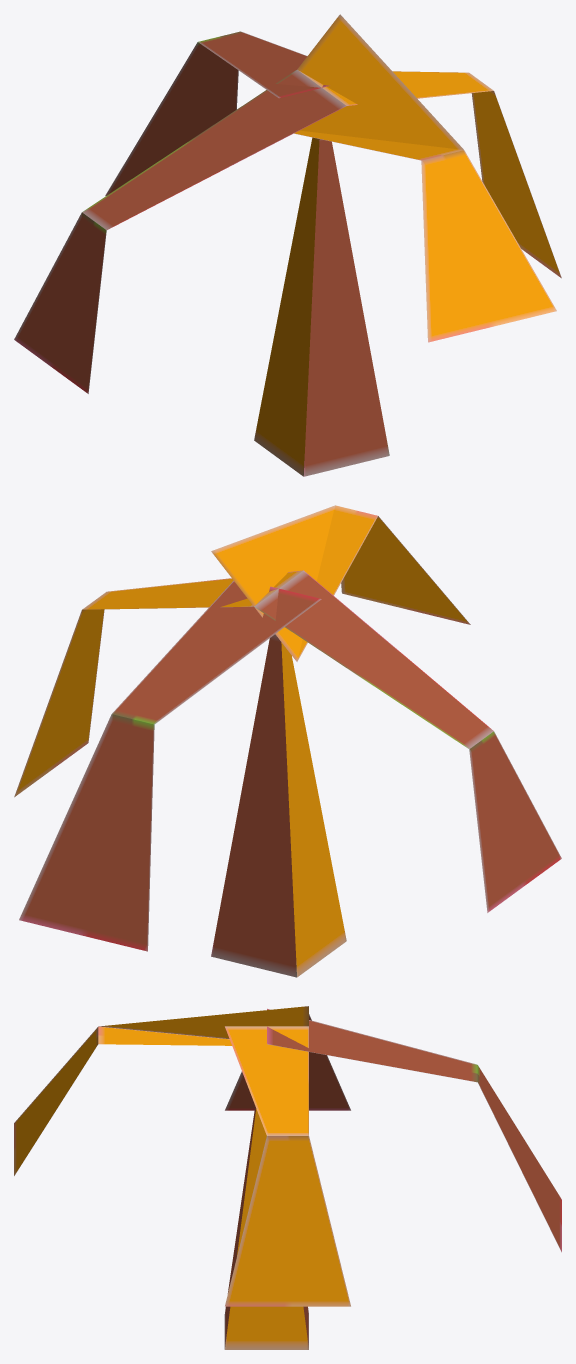
Rendered from Dead-Tree.gltf.
The picture shows the model from 3 angles, top to bottom: view 1: azimuth 30°, elevation 25°; view 2: azimuth 150°, elevation 25°; view 3: azimuth 270°, elevation 25°; orthographic projection. The views are drawn at different scales.
Bounding box in the file's own units: 2.75 × 2.25 × 3.25.
1 material, 1 textured.
